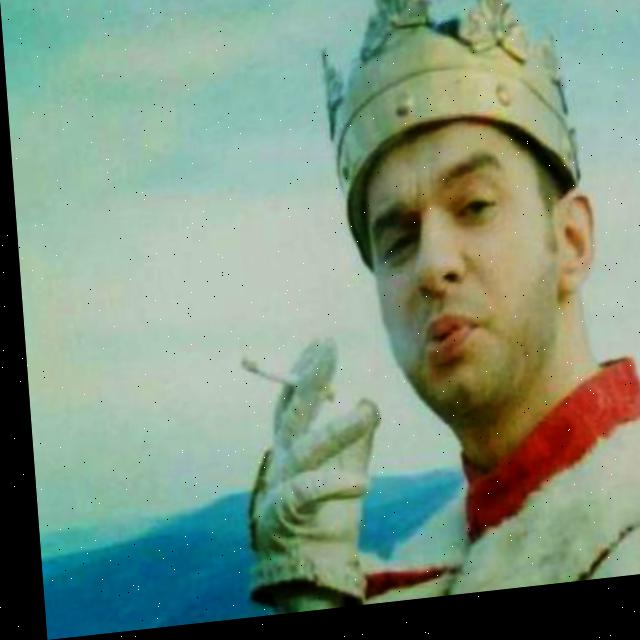cigarette: (233, 354, 289, 400)
